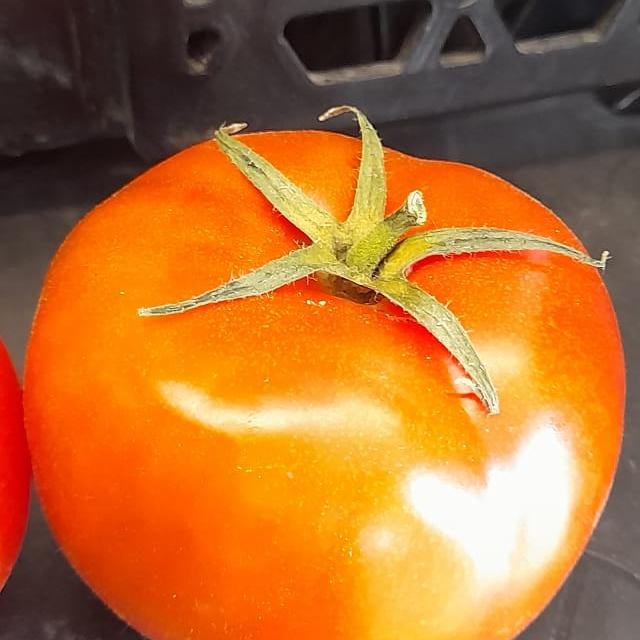tomato: (27, 82, 640, 640)
